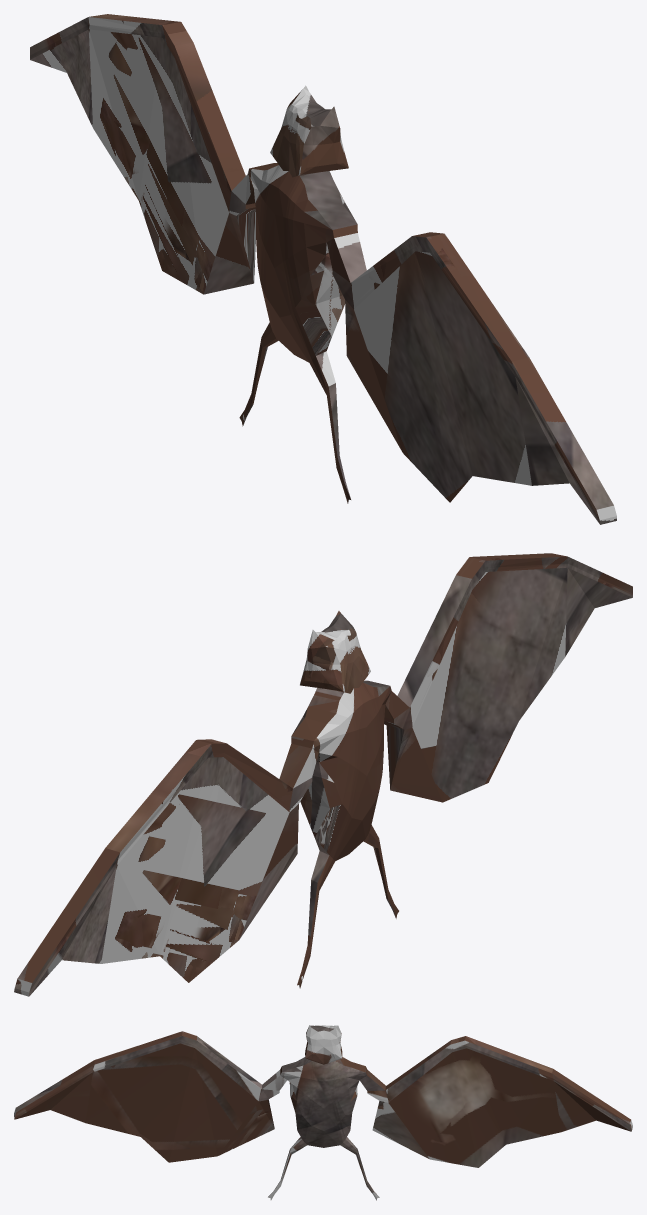
The model's file is Enemigo115.obj.
3 views of the same model, one above another, from view 1: azimuth 30°, elevation 25°; view 2: azimuth 150°, elevation 25°; view 3: azimuth 270°, elevation 25° (orthographic). The views are drawn at different scales.
Parts seen in each view (by area): view 1: Plano; view 2: Plano; view 3: Plano.
Part boxes in pixels (box(x1,y1,x2,y2)): Plano: box(30, 14, 616, 524); Plano: box(14, 553, 632, 996); Plano: box(14, 1025, 632, 1200).
Size of the model in its own units: 0.1811 by 0.7578 by 2.34.
Materials: 1 (1 with a texture image).
